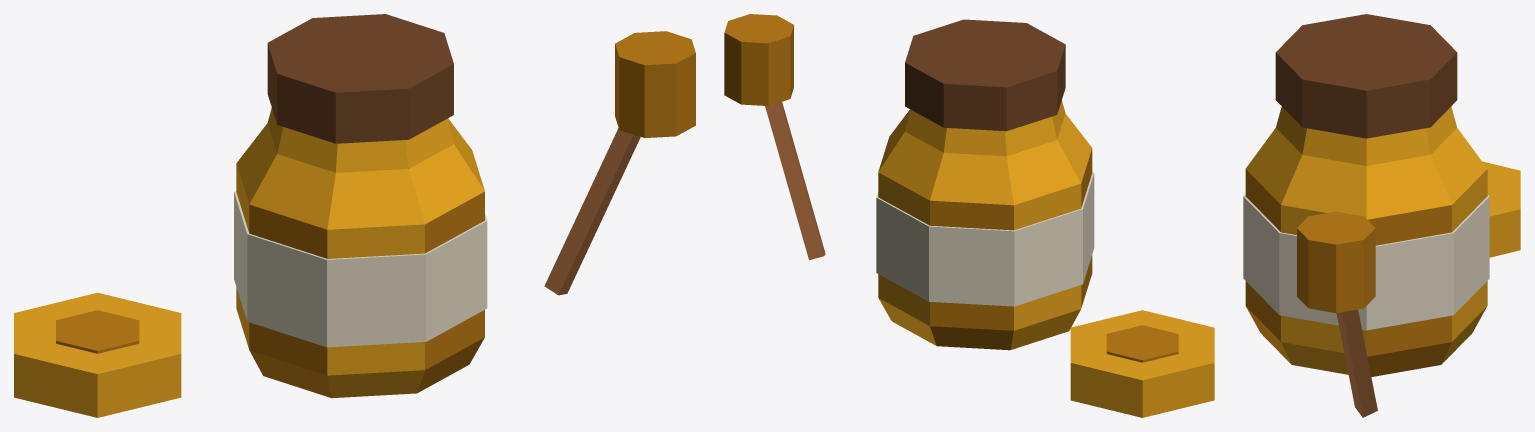
The model's file is honey.glb.
3 renders of one model, left to right at view 1: azimuth 30°, elevation 25°; view 2: azimuth 150°, elevation 25°; view 3: azimuth 270°, elevation 25°, orthographic. The views are drawn at different scales.
Visible parts, largest first — view 1: honey; view 2: honey; view 3: honey.
Boxes of the visible parts, box(x1,y1,x2,y2) form: honey: box(14, 14, 695, 417); honey: box(724, 14, 1214, 417); honey: box(1243, 14, 1520, 417).
Size of the model in its own units: 0.446 by 0.205 by 0.1835.
Materials: 1 (1 with a texture image).
